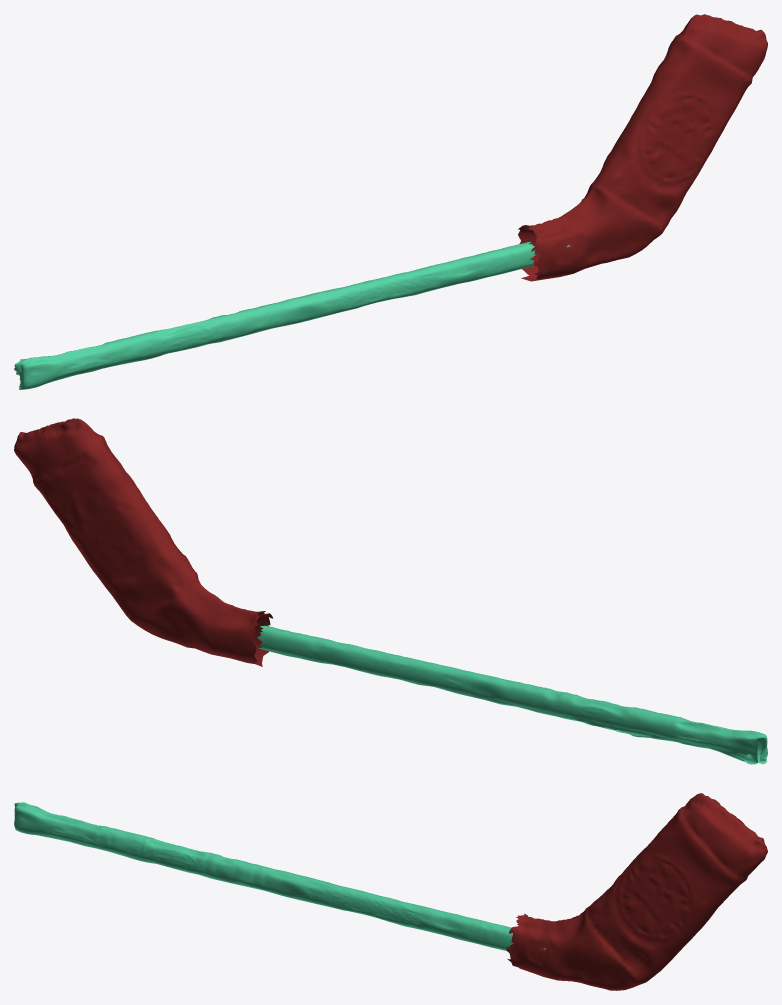
File: object_deformed_2.obj
3 views of the same model, one above another, from view 1: azimuth 30°, elevation 25°; view 2: azimuth 150°, elevation 25°; view 3: azimuth 330°, elevation 25° (orthographic). The views are drawn at different scales.
Size of the model in its own units: 0.6064 by 0.1649 by 0.0398.
